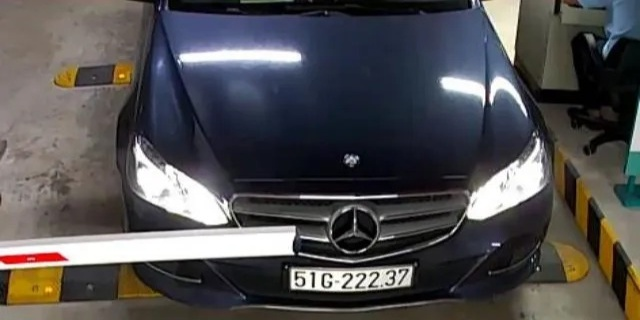bien_so: (292, 264, 413, 291)
